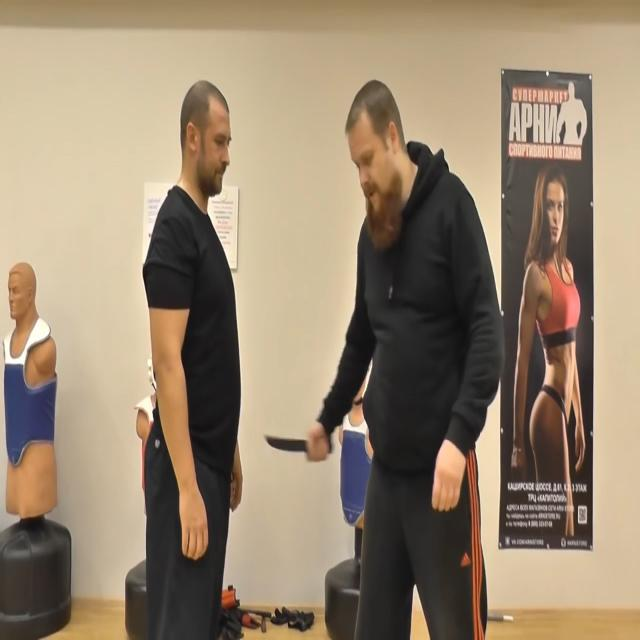knife: (263, 430, 310, 455)
